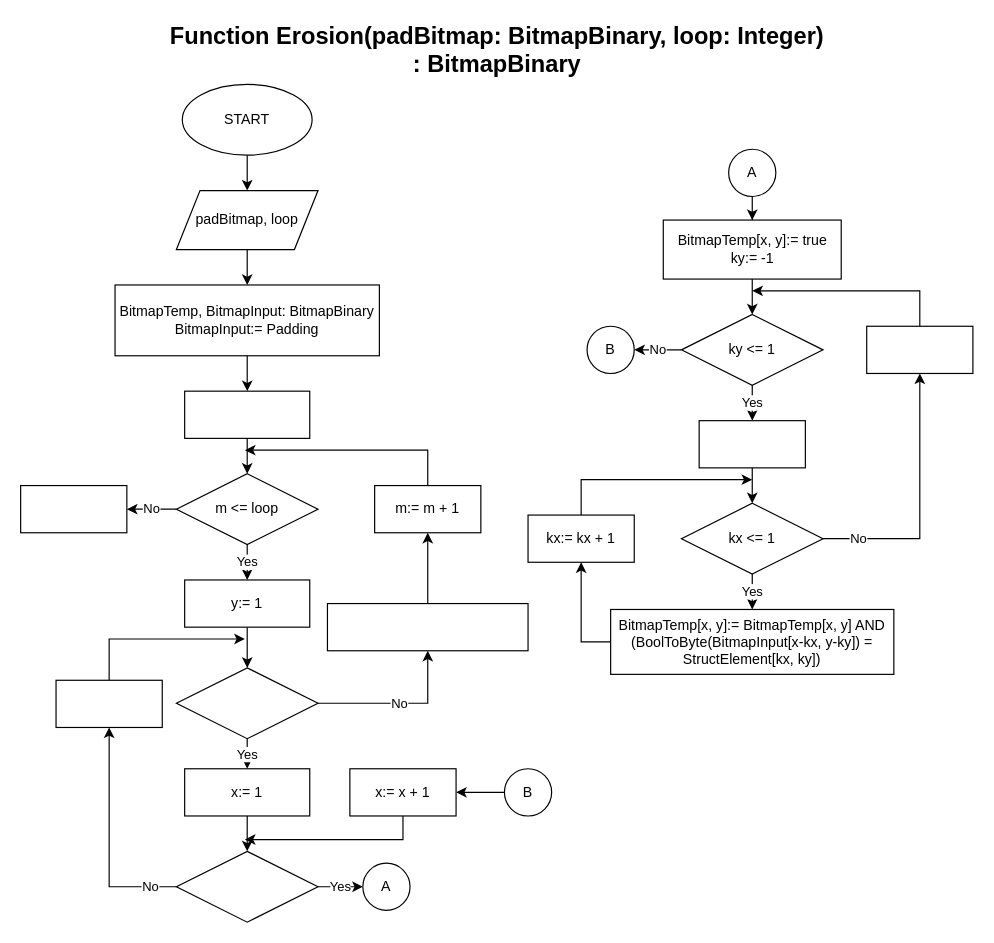
Some shapes in this 994 by 943 pixel diagram are drawn without their labels. Each missing label, with the centre of its shape:
"BitmapInput:= PaddingBitmap(BitmapTemp)" belongs at pixel 427 626.
"kx:= -1" belongs at pixel 751 443.
"ky:= ky + 1" belongs at pixel 919 349.
"m:= 1" belongs at pixel 246 414.
"return BitmapInput" belongs at pixel 73 508.
"x <= imageWidth" belongs at pixel 246 886.
"y <= imageHeight" belongs at pixel 246 703.
"y:= y + 1" belongs at pixel 108 703.
